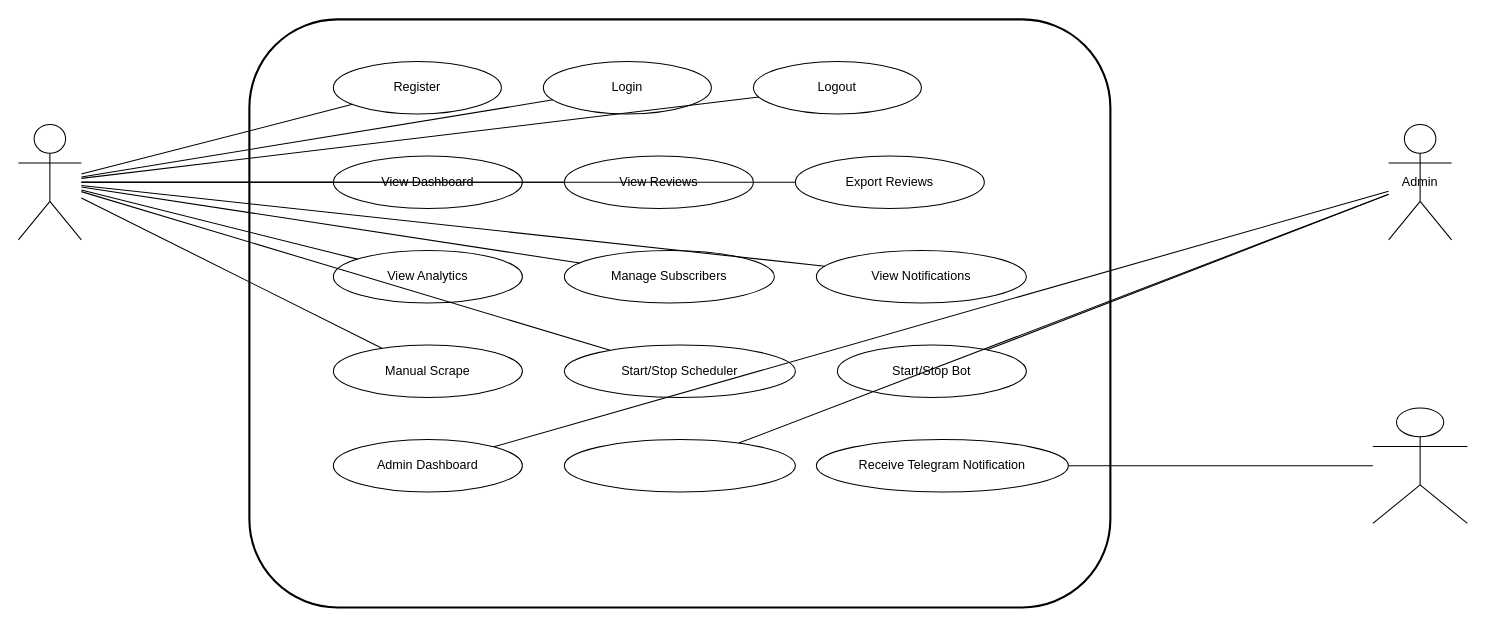
Image size: 1486x626. Some labels were removed from this diagram. The shapes that lost their labels are listed below. From the top down, each one's box as (x1, y1, x2, y2) in pixels, then its label:
(17, 123, 81, 240): User
(248, 18, 1111, 608): Hotel Review Dashboard System
(563, 438, 795, 492): Switch Active Hotel
(1372, 407, 1467, 523): Telegram Subscriber
